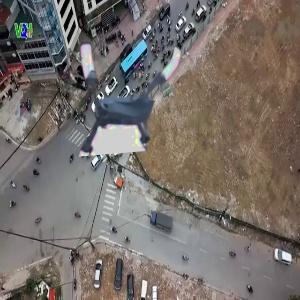drone: (72, 33, 192, 153)
